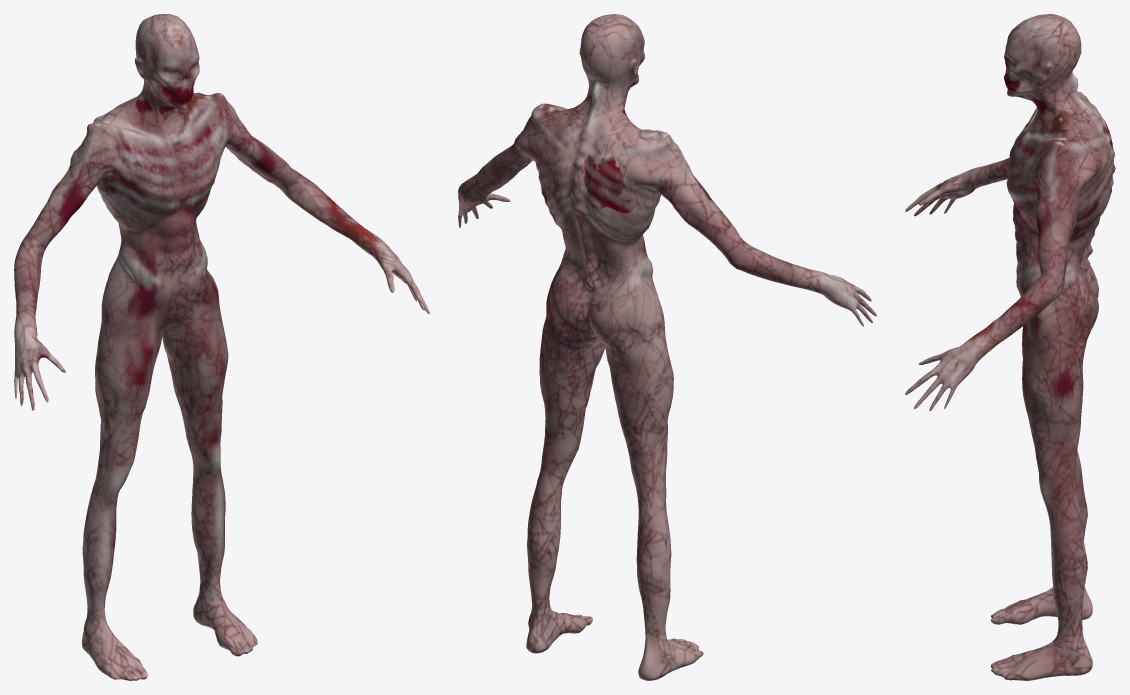
The model's file is Ghoul.fbx.
3 views of the same model, side by side, from view 1: azimuth 30°, elevation 25°; view 2: azimuth 150°, elevation 25°; view 3: azimuth 270°, elevation 25° (orthographic).
Parts seen in each view (by area): view 1: coekMesh; view 2: coekMesh; view 3: coekMesh.
Boxes of the visible parts, x1,y1,x2,y2 form: coekMesh: (14, 14, 429, 680); coekMesh: (458, 14, 876, 680); coekMesh: (905, 14, 1115, 680).
Size of the model in its own units: 117 by 174 by 52.84.
